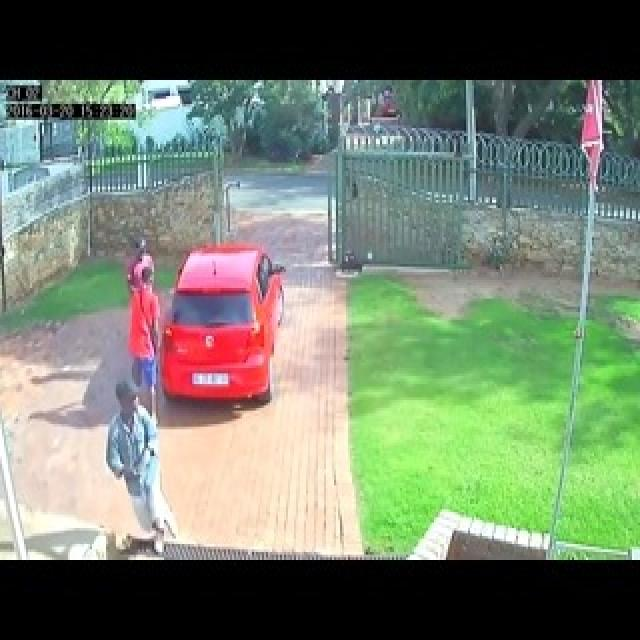thief: (116, 224, 161, 382), (103, 375, 165, 488)
